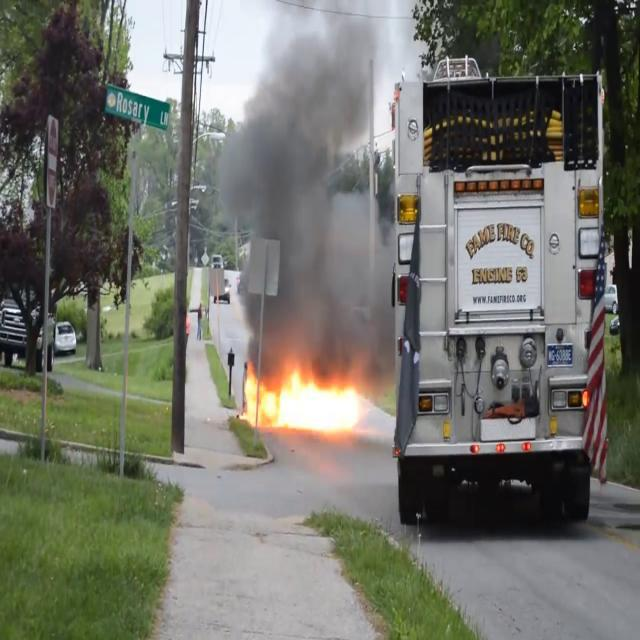Fire: (244, 353, 368, 435)
Smoke: (214, 1, 394, 354)
